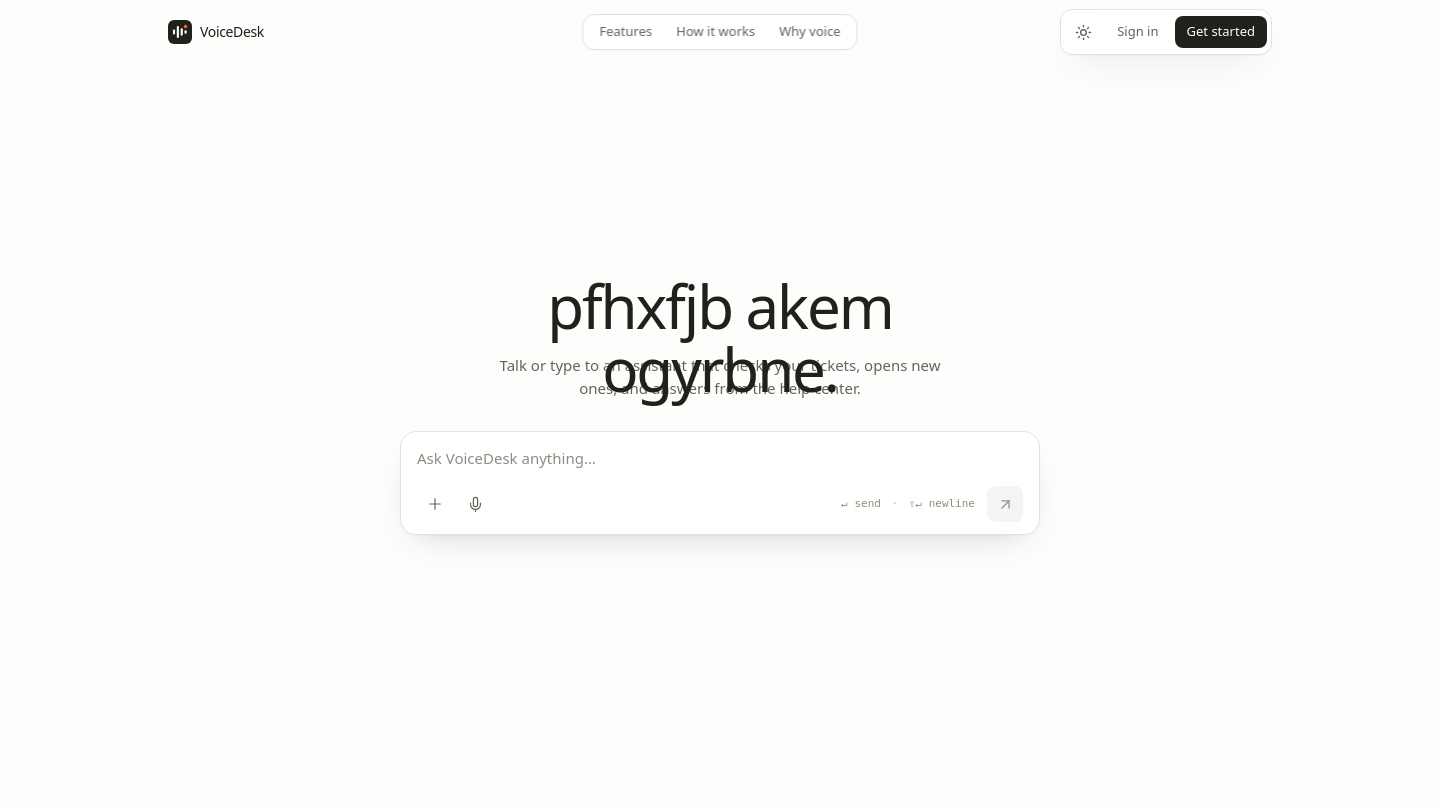
it: LandingPage › lets a visitor ask first: the question is kept for after sign-up and the sign-up dialog opens
Step 1. Type "How long do refunds take?" into the text box → (720, 460), box [417, 446, 1023, 474]
Then press Enter
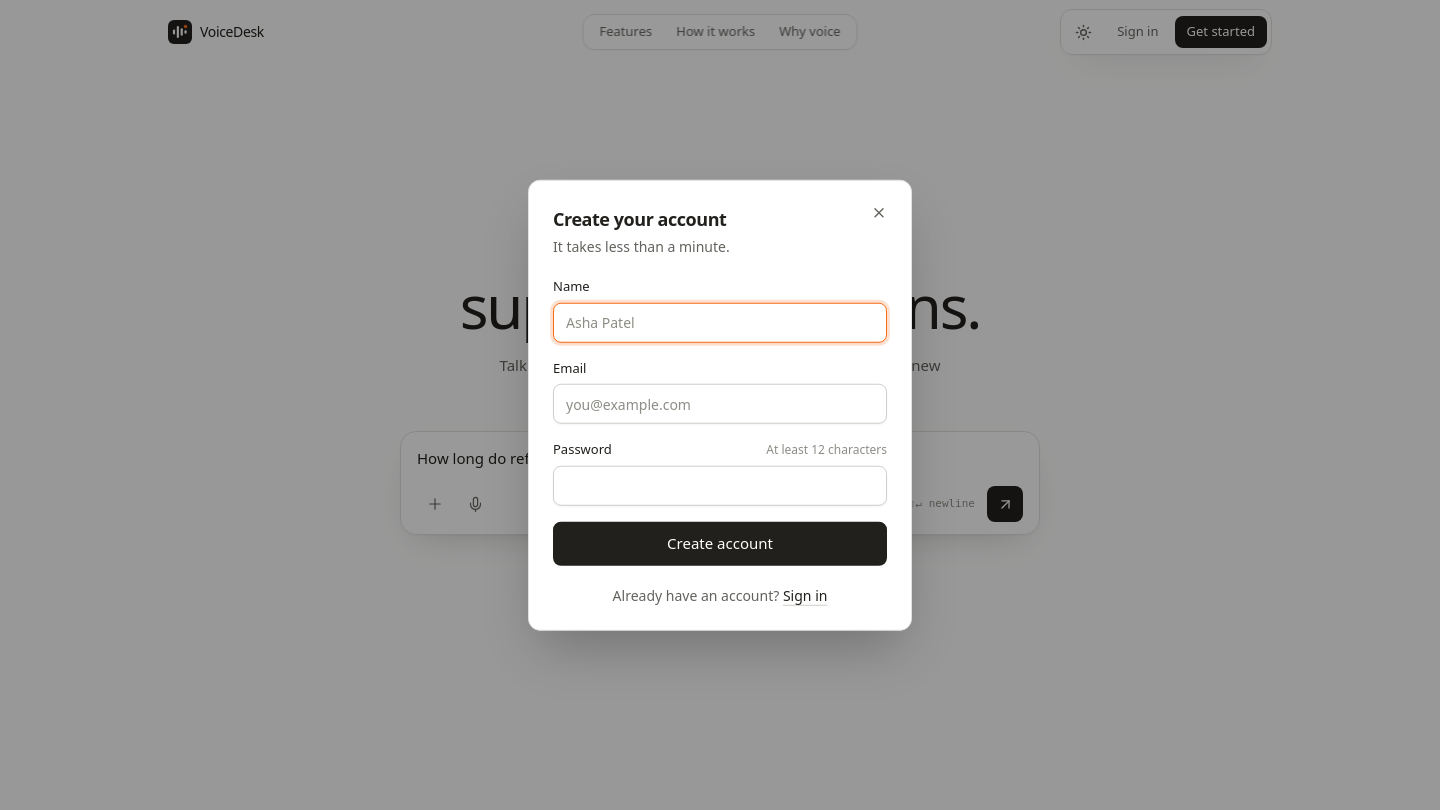
Now the dialog "Create your account" is shown, box [528, 180, 912, 630]
